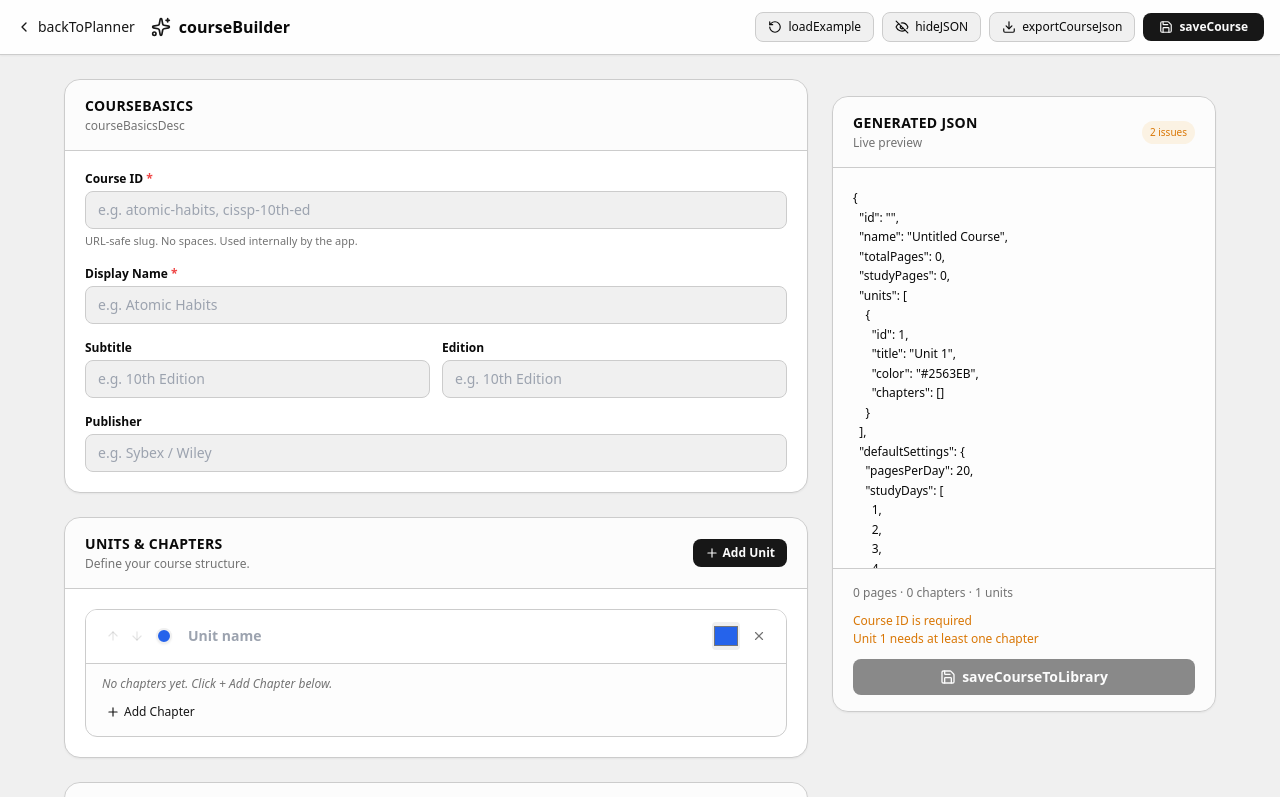
CourseBuilder › loads example data when Load Example is clicked
The width and height of the screenshot is (1280, 797).
Click the button "loadExample".
click(815, 27)  # box [755,12,874,42]
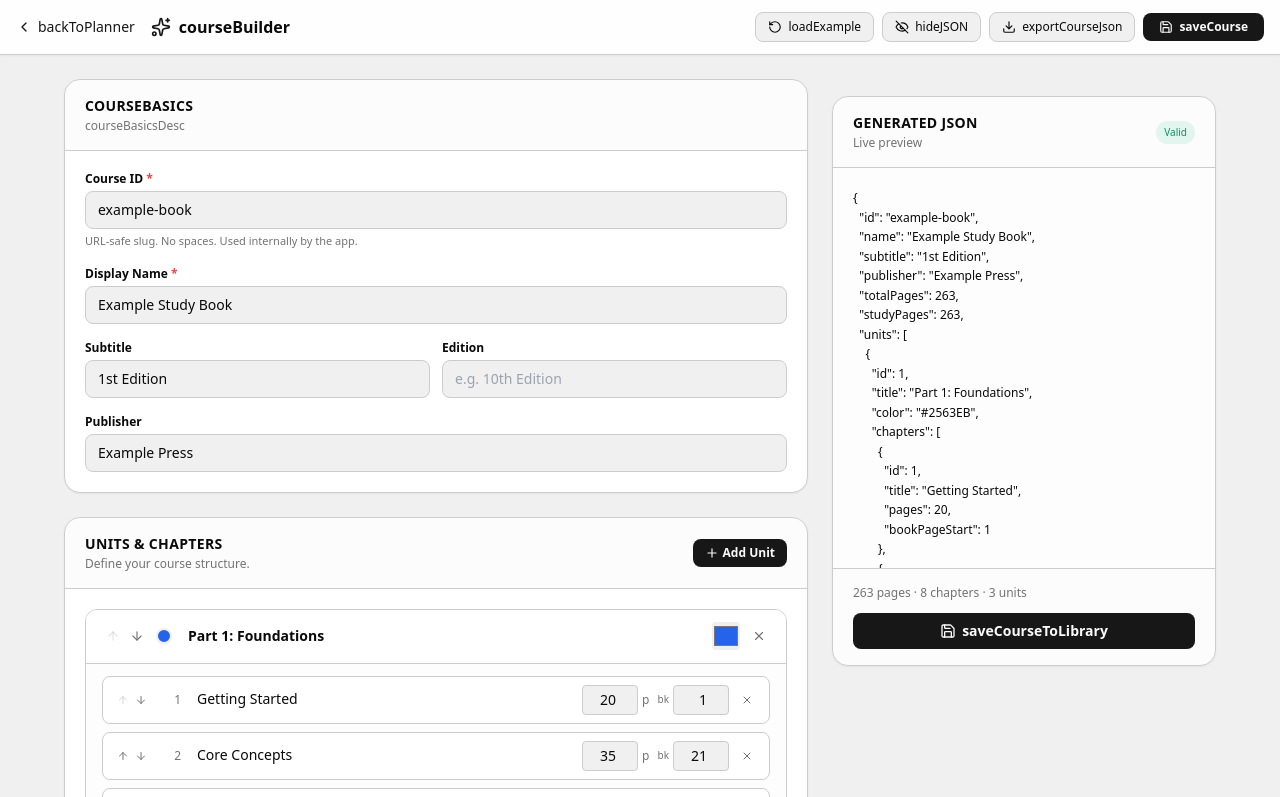
Expected: the number of fields with placeholder "Unit name" is 3
Expected: the 5th field with placeholder "Unit name" holds "Part 1: Foundations", [180,622,704,650]
